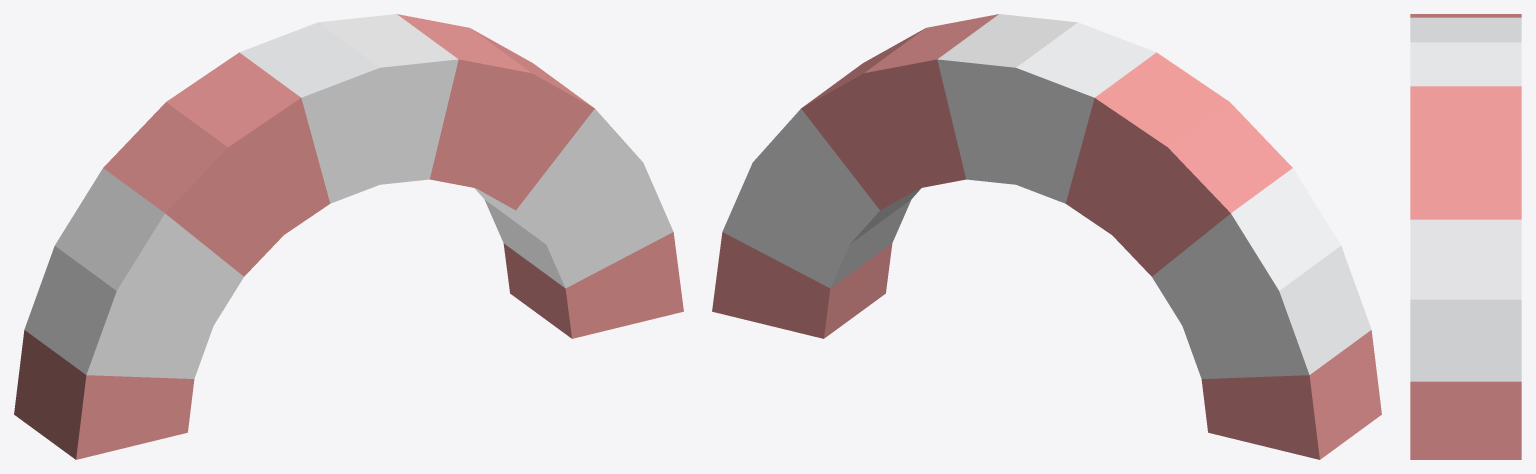
Rendered from overhead-round-colored.glb.
3 renders of one model, left to right at view 1: azimuth 30°, elevation 25°; view 2: azimuth 150°, elevation 25°; view 3: azimuth 270°, elevation 25°, orthographic. The views are drawn at different scales.
Parts seen in each view (by area): view 1: overheadRoundColored; view 2: overheadRoundColored; view 3: overheadRoundColored.
Part boxes in pixels (x1,y1,x2,y2): overheadRoundColored: (14,14,683,459); overheadRoundColored: (712,14,1381,459); overheadRoundColored: (1410,14,1521,459).
Bounding box in the file's own units: 11.2 × 5.6 × 1.98.
